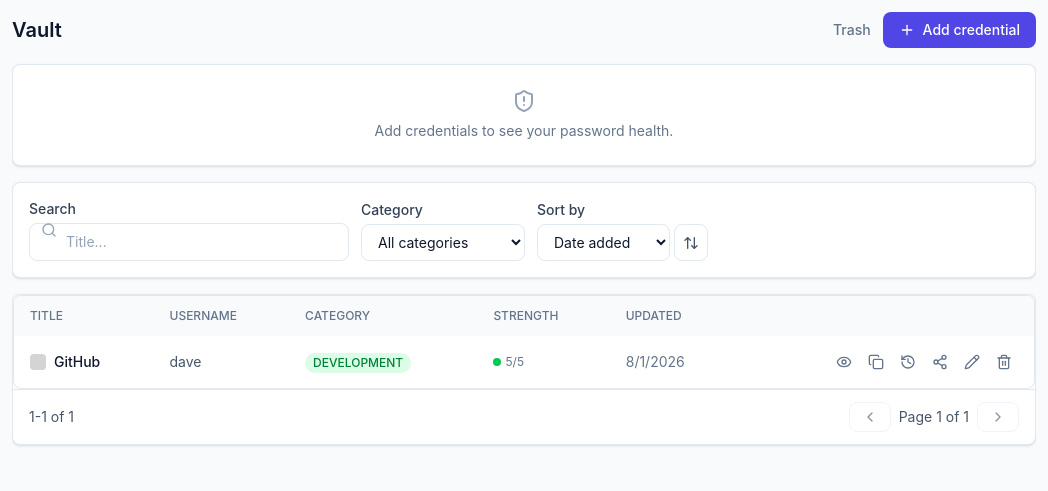
Test: VaultPage › should_fetchTheDecryptedPassword_onlyOnReveal_notOnInitialRender
Expected: the text "GitHub" is shown, [54,352,100,372]
Step 1. Click the button named "Reveal password" → {"x": 844, "y": 362}, box [830,348,858,376]
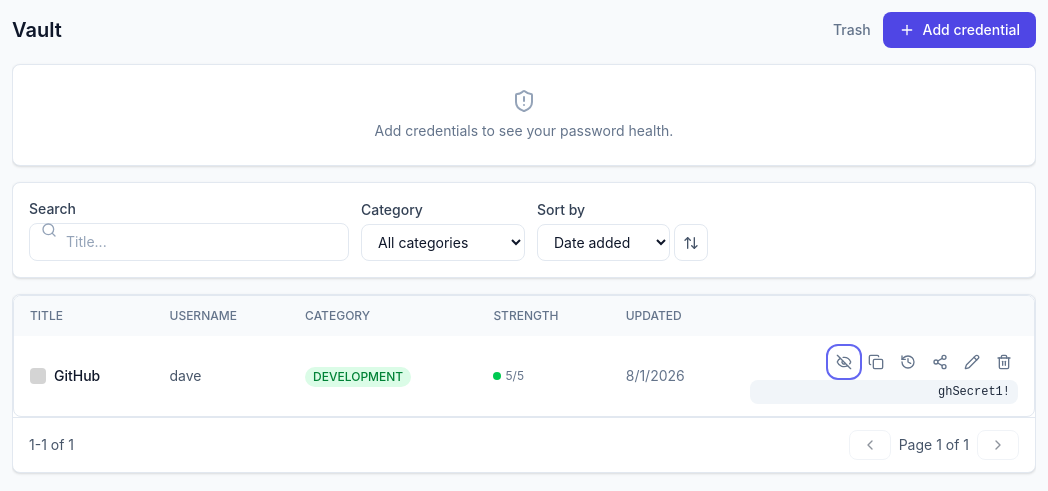
Expected: the text "ghSecret1!" is shown, [750,380,1018,404]
